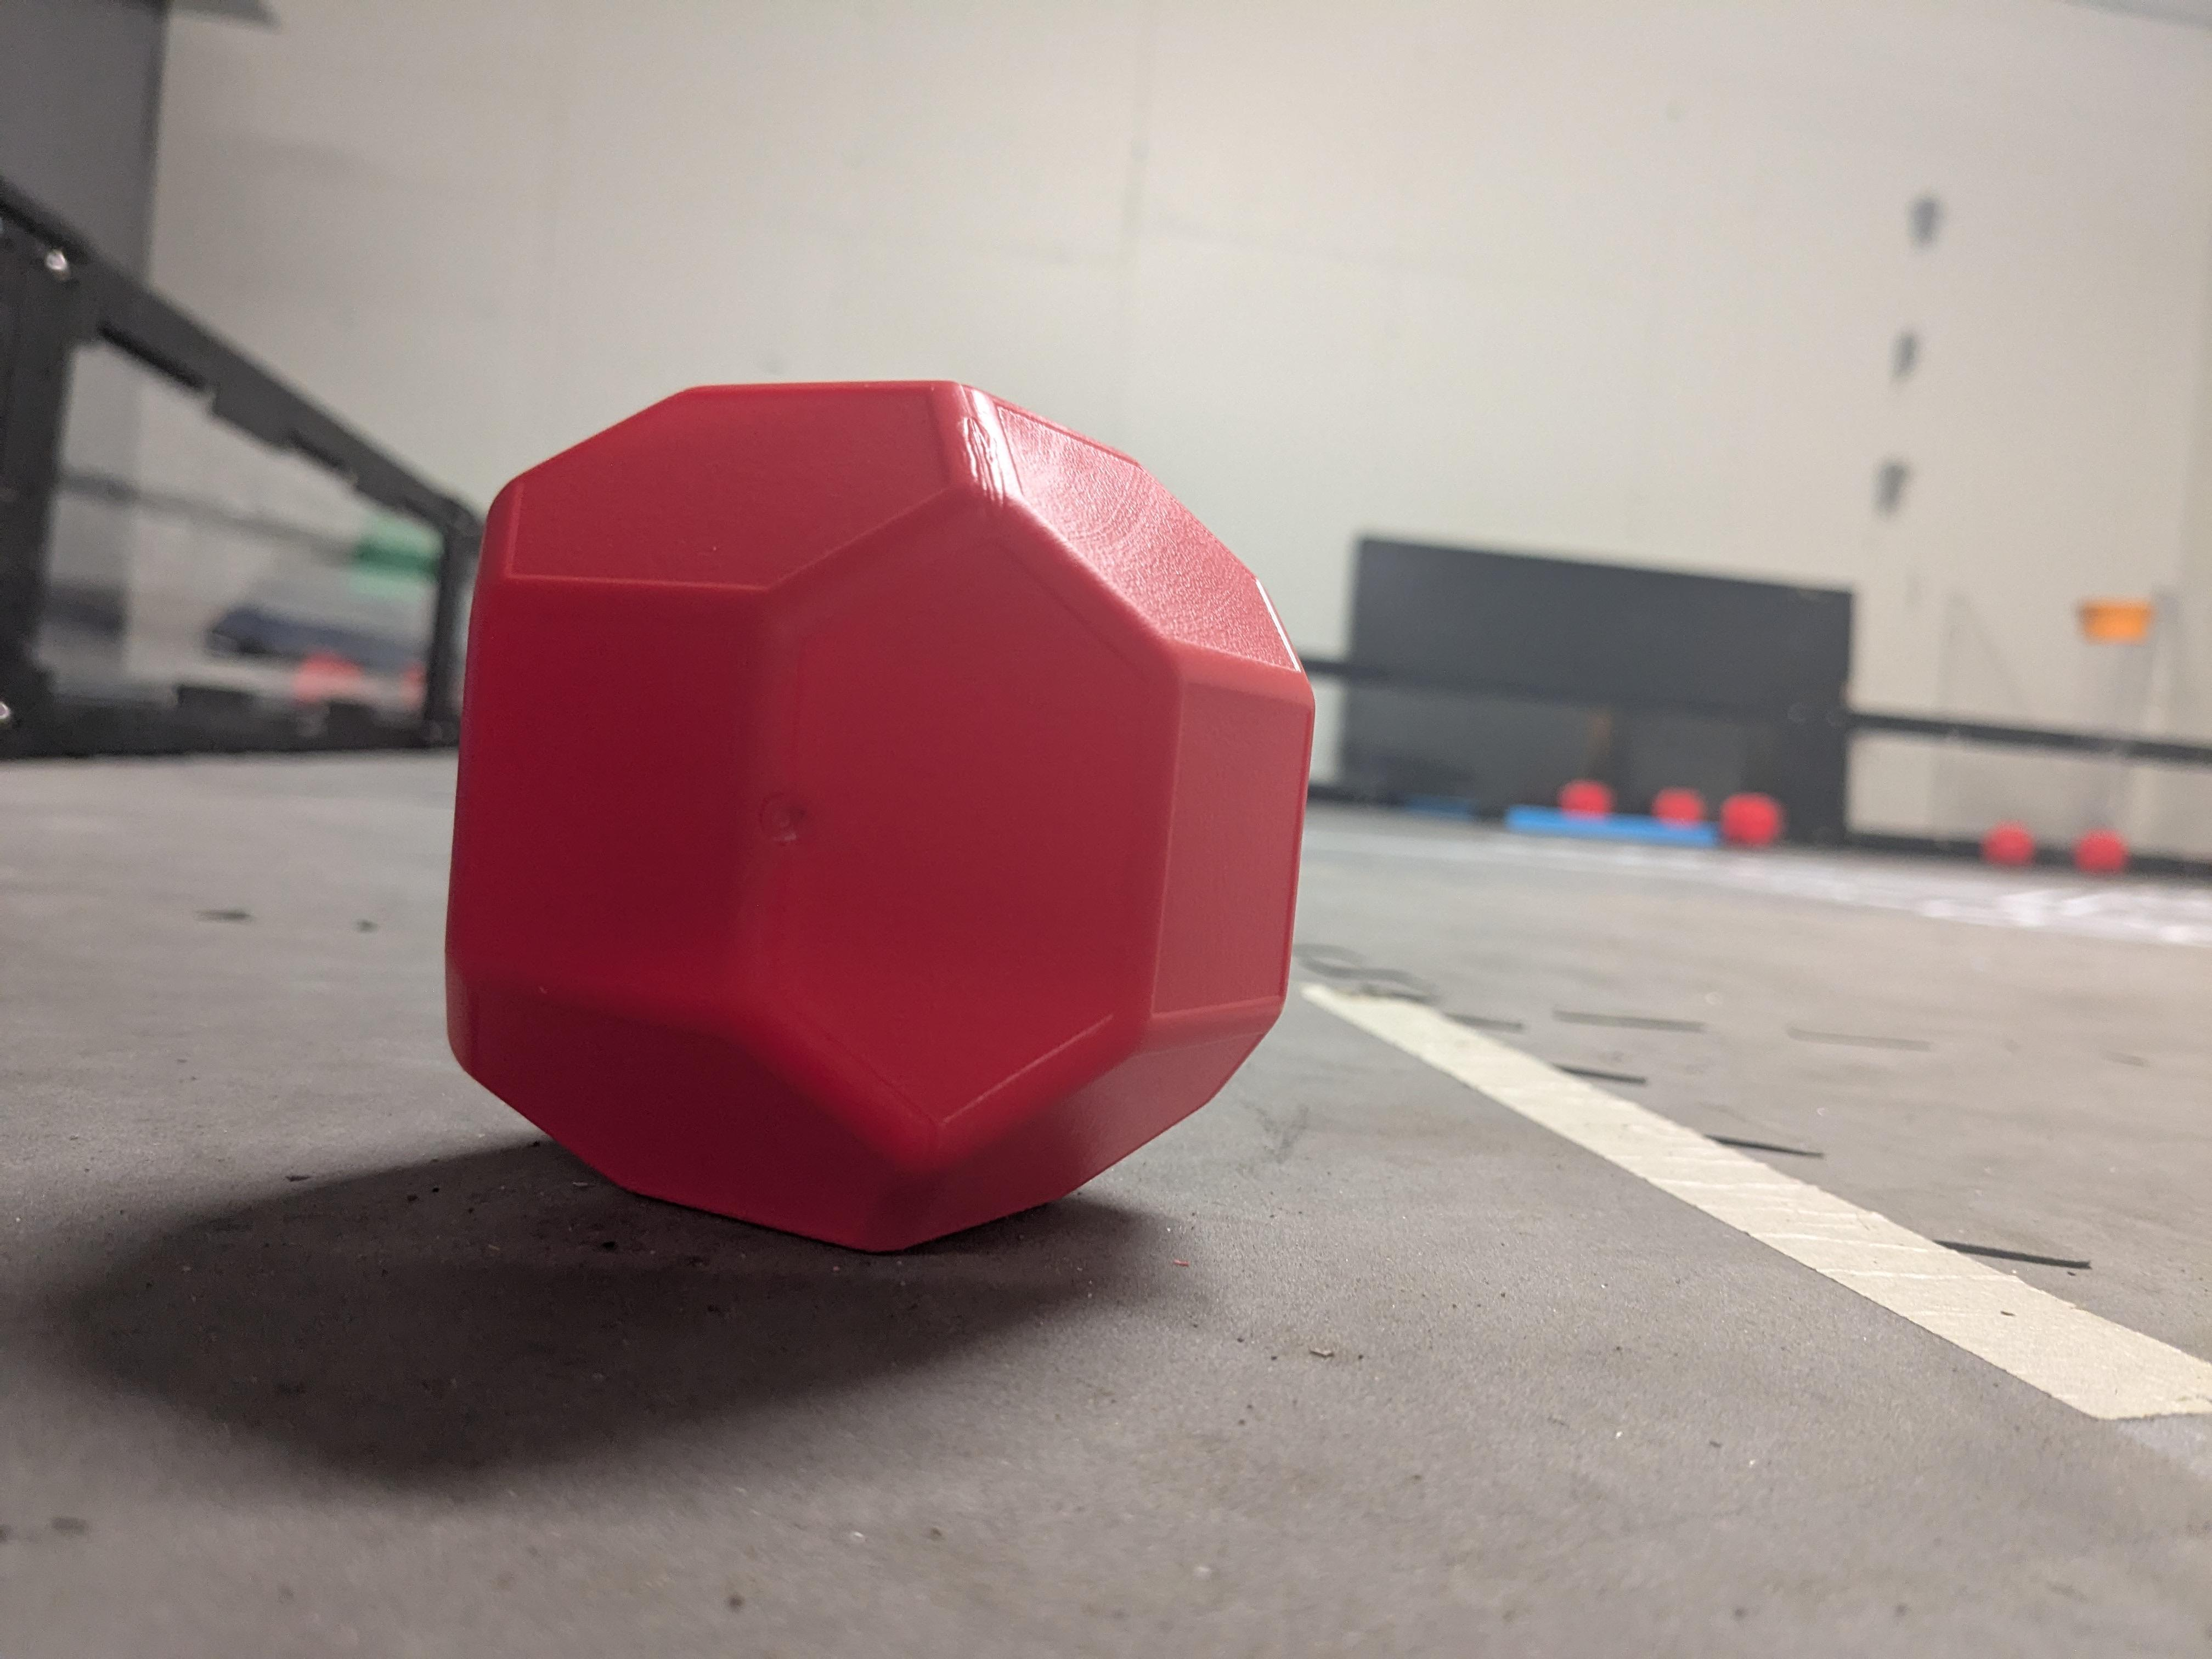Vex-Pieces-RED: (446, 380, 1299, 1262)
